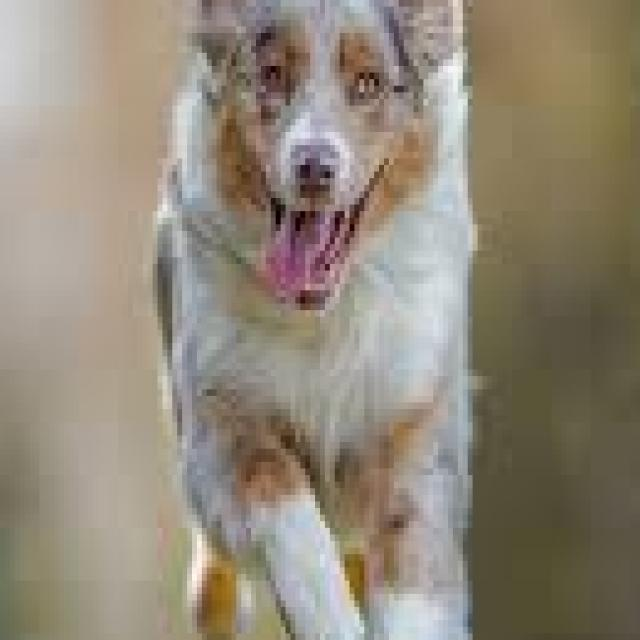dog: (128, 0, 502, 640)
